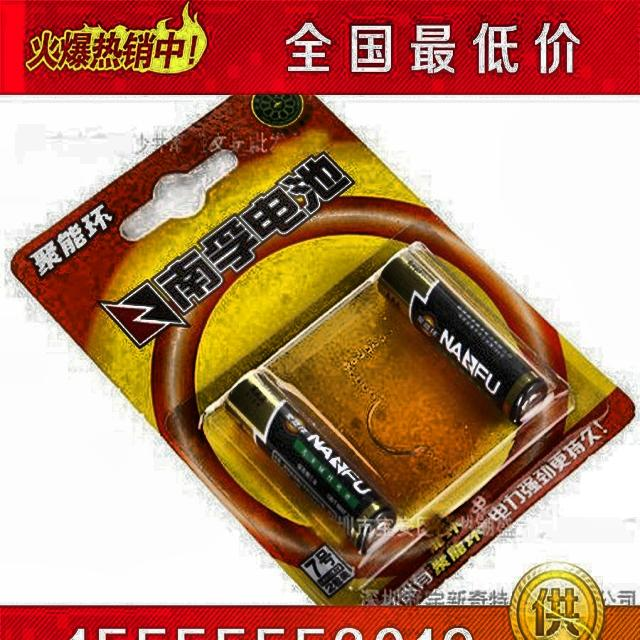Non-Valuable Waste - Batteries: (379, 242, 556, 424), (226, 368, 396, 553)
